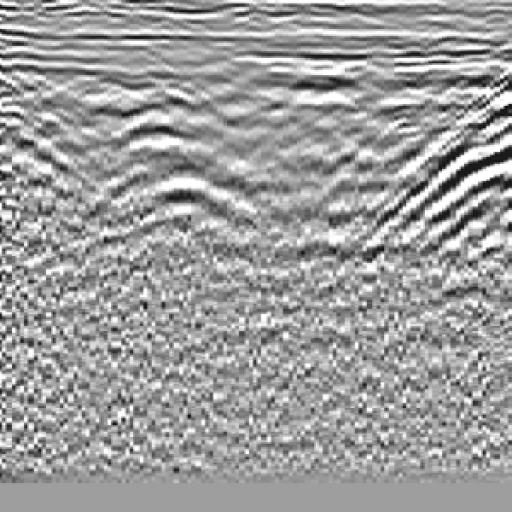metalic: (95, 55, 258, 274)
nonmetalic: (366, 52, 512, 278)
